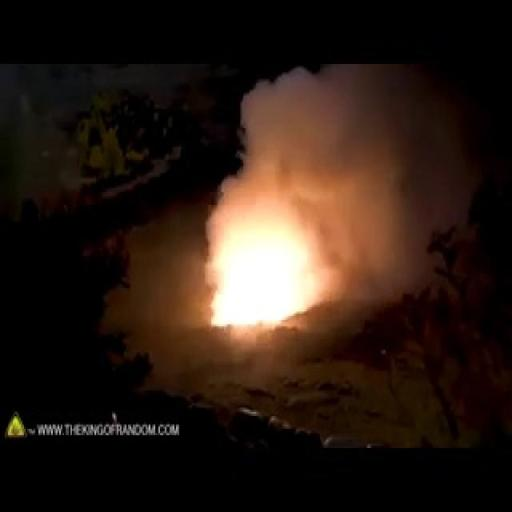smoke: (183, 201, 318, 330)
